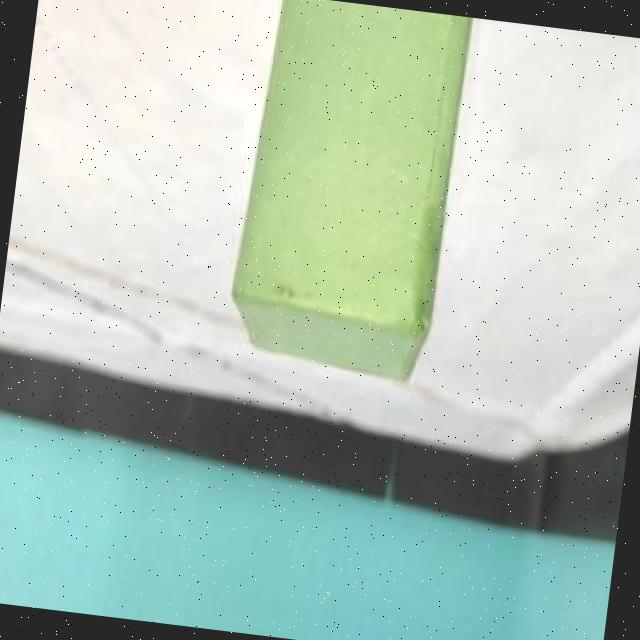greenbox: (219, 0, 470, 385)
